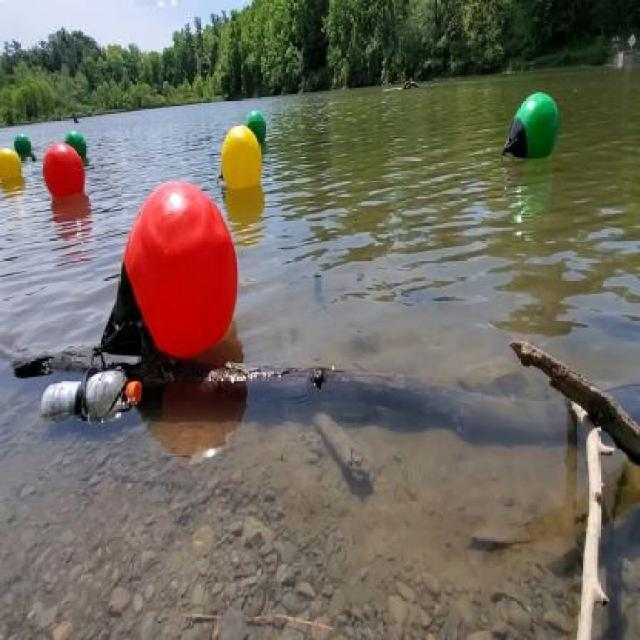buoy: (98, 180, 238, 358), (499, 89, 558, 160), (216, 124, 264, 188), (42, 142, 84, 198), (62, 128, 88, 164), (0, 148, 23, 188), (246, 110, 266, 144), (14, 133, 32, 158)
